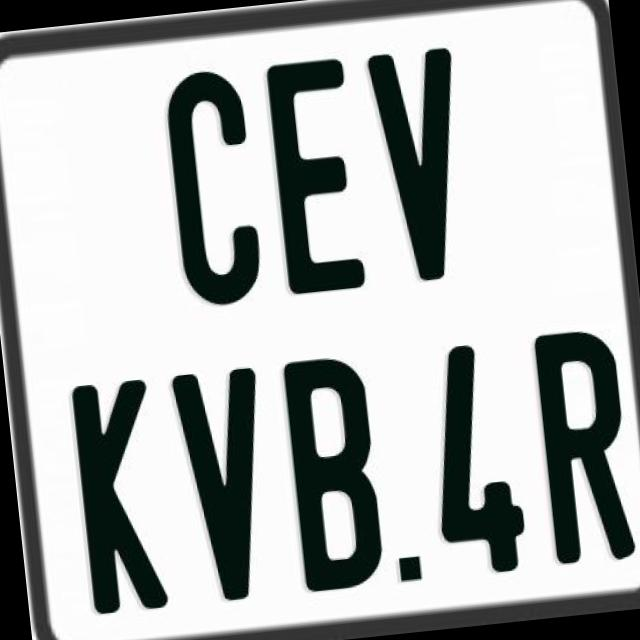4: (418, 337, 532, 579)
B: (278, 349, 387, 596)
C: (163, 64, 272, 305)
E: (264, 59, 368, 302)
K: (68, 378, 168, 620)
R: (531, 328, 635, 574)
V: (166, 364, 275, 606), (364, 43, 472, 285)
